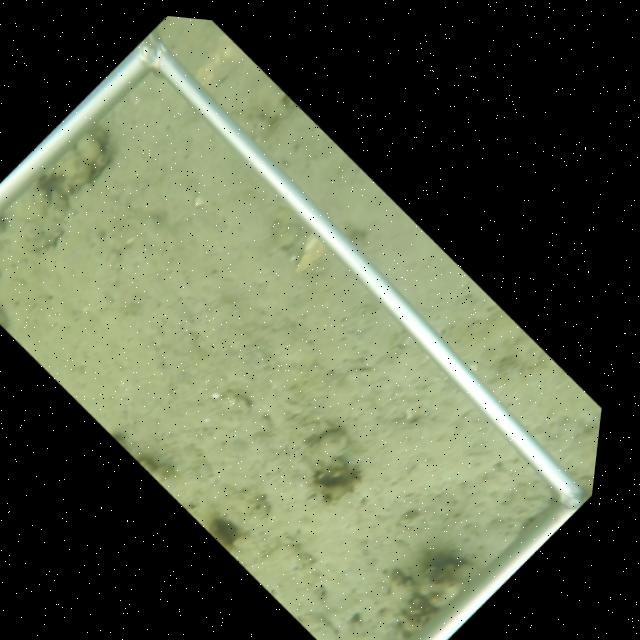Oyster-Indeterminate: (17, 187, 73, 255)
